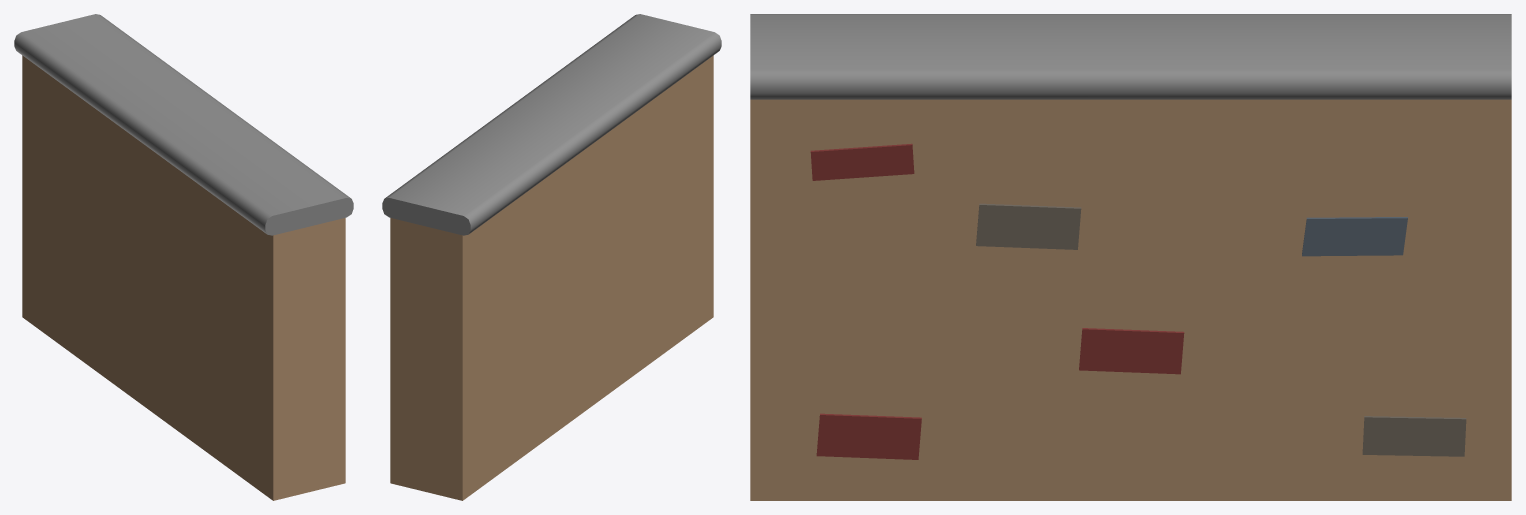
Rendered from stoneWall.glb.
3 renders of one model, left to right at view 1: azimuth 30°, elevation 25°; view 2: azimuth 150°, elevation 25°; view 3: azimuth 270°, elevation 25°, orthographic. The views are drawn at different scales.
Visible parts, largest first — view 1: Wall; view 2: Wall; view 3: Wall.
Part boxes in pixels (x1,y1,x2,y2): Wall: (14,14,353,500); Wall: (382,14,721,500); Wall: (750,14,1511,500).
Bounding box in the file's own units: 1.22 × 3.76 × 6.
